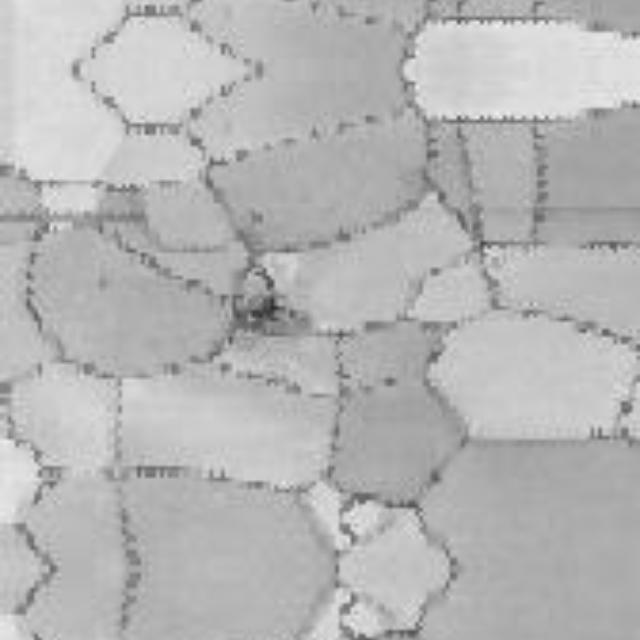good_void: (216, 252, 309, 351)
